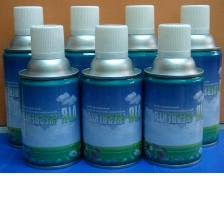aerosol_cans: (16, 20, 85, 172), (76, 22, 146, 170), (140, 20, 207, 169), (109, 0, 174, 150), (54, 0, 119, 150), (1, 0, 64, 152), (163, 2, 223, 149)
